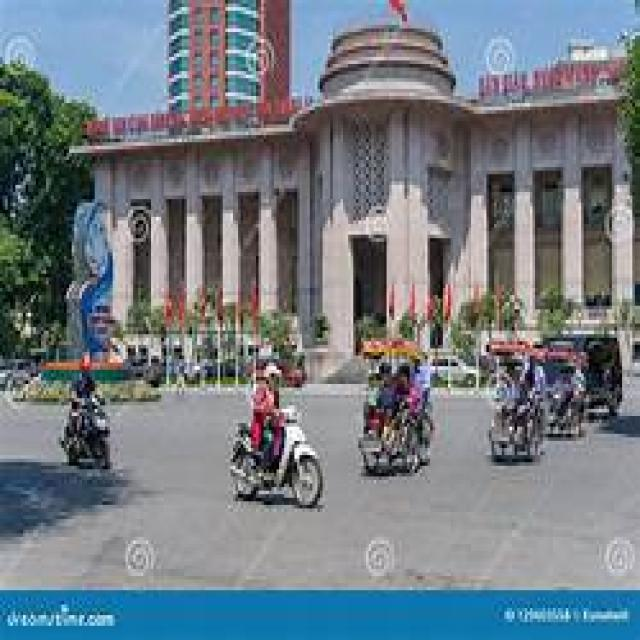Two Wheeler: (230, 406, 322, 507), (61, 399, 109, 468)
